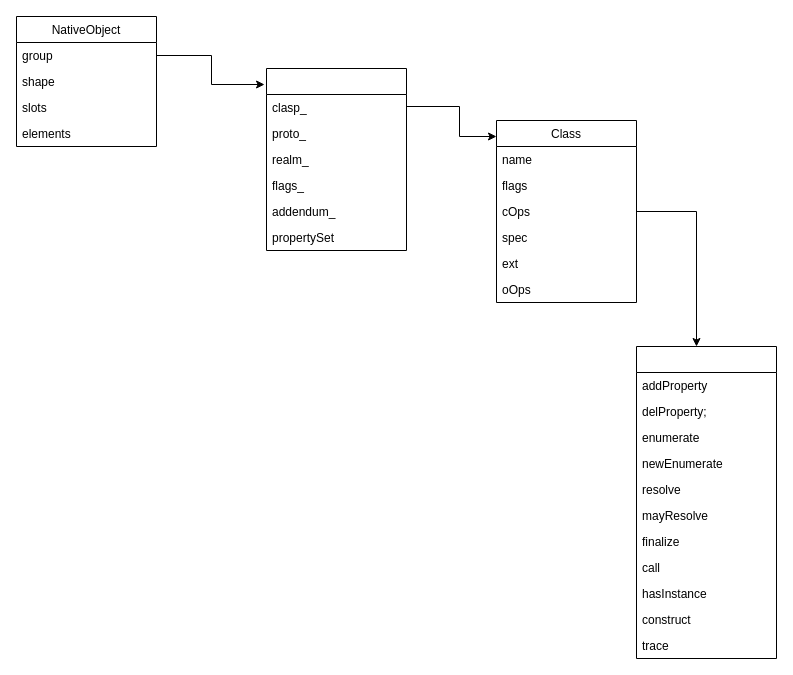
The diagram is 793 pixels wide and 675 high, and some of its shapes have lost their labels. Each missing label, with the box of its shape:
ClassOps: (636, 346, 776, 658)
ObjectGroup: (266, 68, 406, 250)
